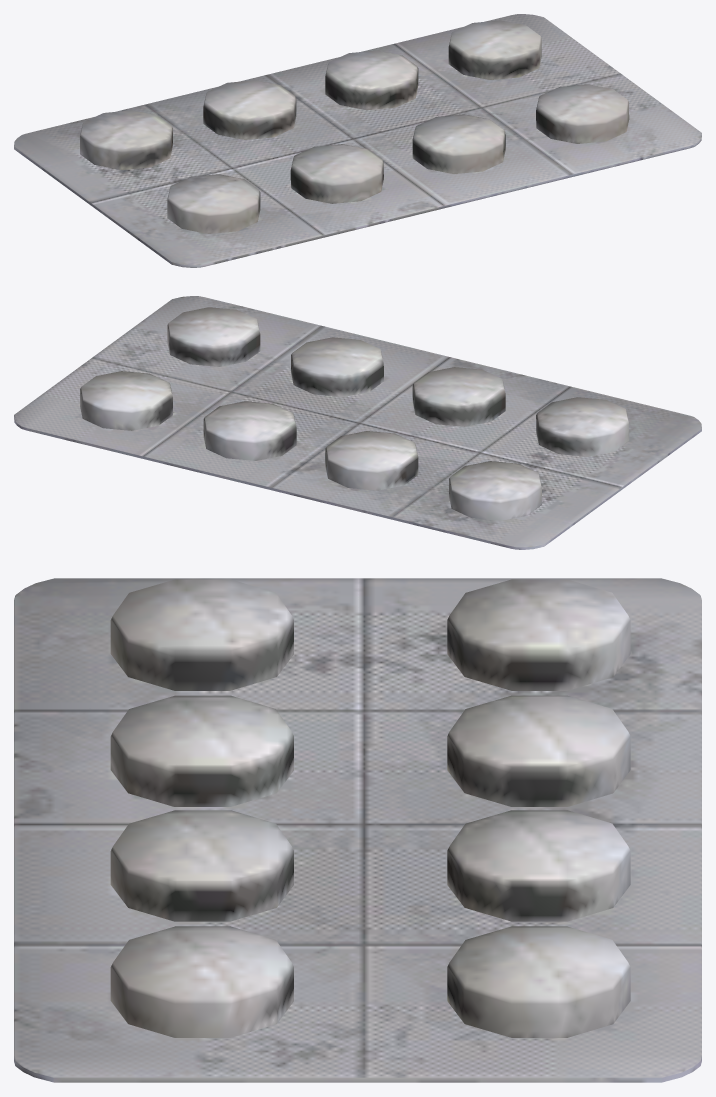
File: medicine_blister_adrophine.DAE
The picture shows the model from 3 angles, top to bottom: view 1: azimuth 30°, elevation 25°; view 2: azimuth 150°, elevation 25°; view 3: azimuth 270°, elevation 25°; orthographic projection. The views are drawn at different scales.
Visible parts, largest first — view 1: medicine_blister_adrophine; view 2: medicine_blister_adrophine; view 3: medicine_blister_adrophine.
Boxes of the visible parts, left/top/right/bottom form: medicine_blister_adrophine: left=14, top=14, right=701, bottom=267; medicine_blister_adrophine: left=14, top=296, right=701, bottom=549; medicine_blister_adrophine: left=14, top=578, right=701, bottom=1082.
Bounding box in the file's own units: 0.2452 × 0.0117 × 0.1429.
